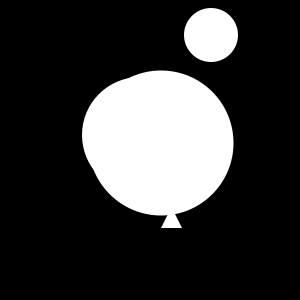rectangle: (88, 70, 234, 216), (82, 77, 198, 193), (184, 8, 238, 62), (108, 160, 146, 200)
triangle: (161, 207, 182, 228)
